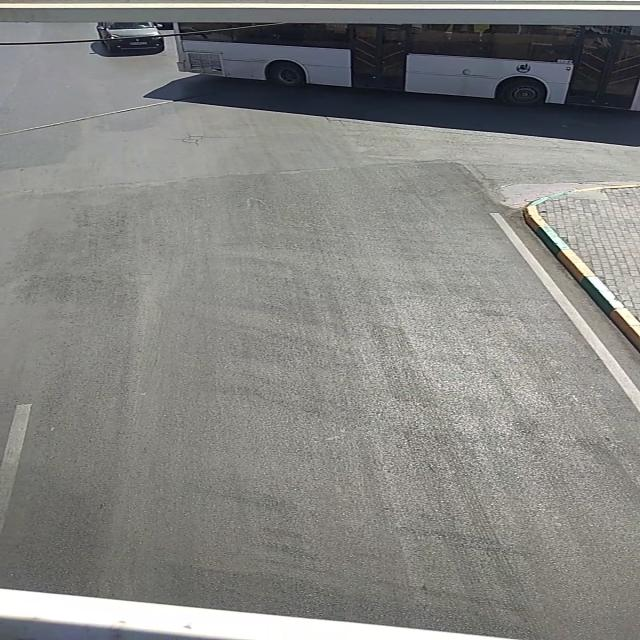bus: (170, 23, 638, 113)
car: (92, 23, 162, 51)
